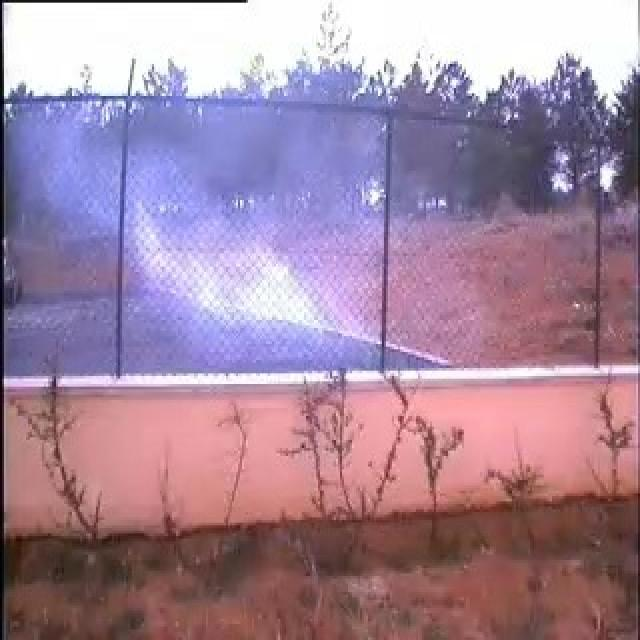smoke: (119, 117, 388, 370)
